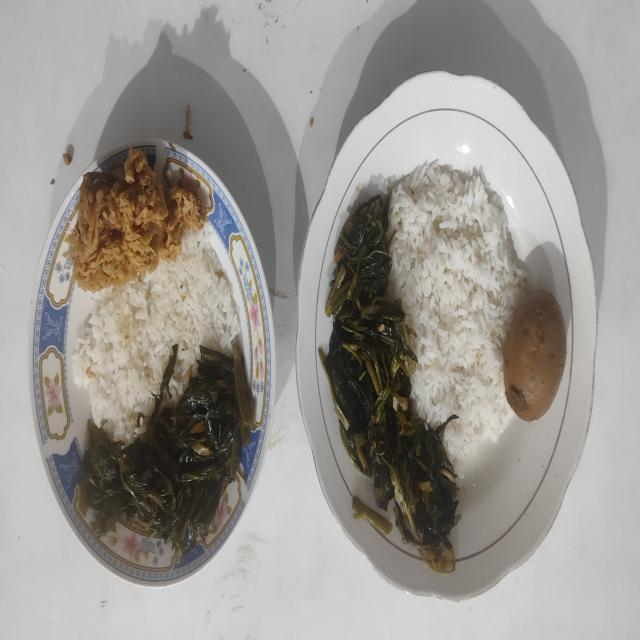nasi_putih: (388, 160, 526, 464), (73, 225, 240, 444)
tumis_kangkung: (318, 195, 461, 572), (79, 343, 255, 562)
